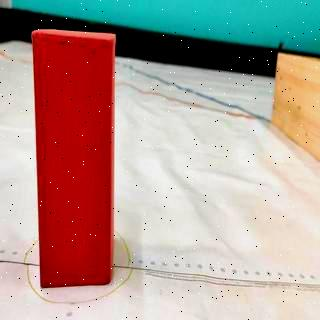redbox: (30, 28, 116, 290)
